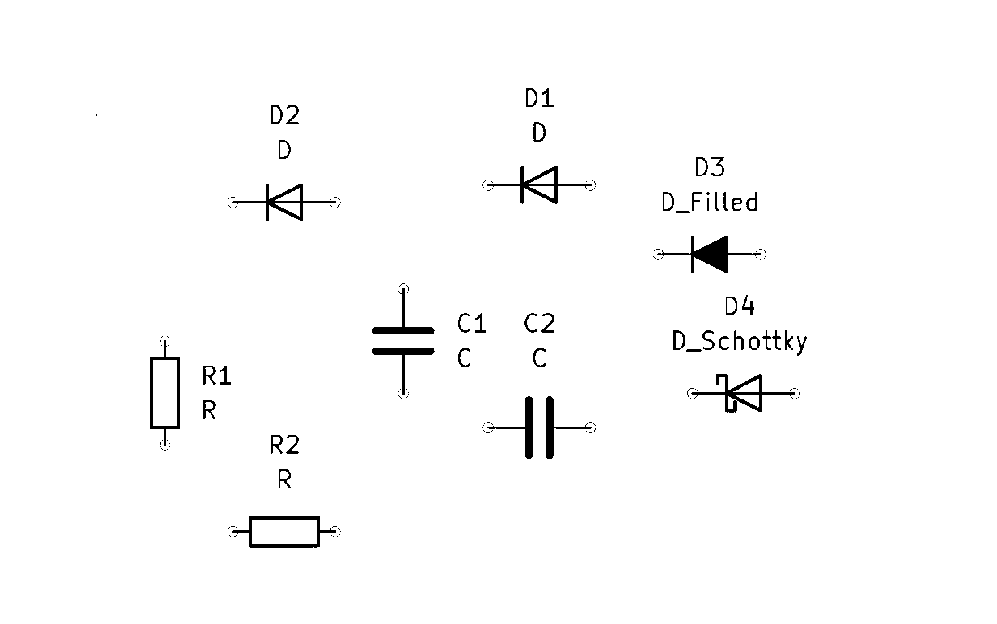C: (360, 309, 442, 370), (510, 387, 565, 472)
D: (708, 365, 770, 429), (252, 171, 317, 231), (510, 151, 566, 217), (685, 223, 739, 286)
R: (244, 501, 325, 559), (144, 347, 192, 440)
